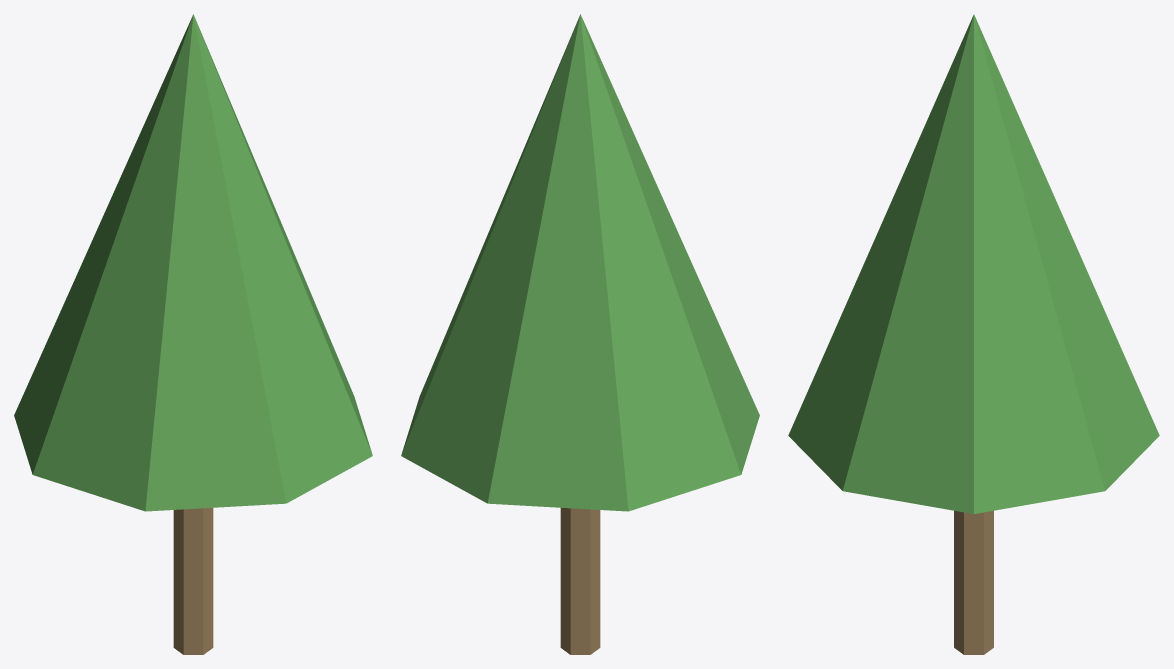
File: tree_variant_0.glb
The picture shows the model from 3 angles, left to right: view 1: azimuth 30°, elevation 25°; view 2: azimuth 150°, elevation 25°; view 3: azimuth 270°, elevation 25°; orthographic projection.
Visible parts, largest first — view 1: Tree_v0; view 2: Tree_v0; view 3: Tree_v0.
Part boxes in pixels (x1,y1,x2,y2): Tree_v0: (14,14,372,654); Tree_v0: (401,14,759,654); Tree_v0: (788,14,1159,654).
Size of the model in its own units: 1.13 by 2.13 by 1.13.
